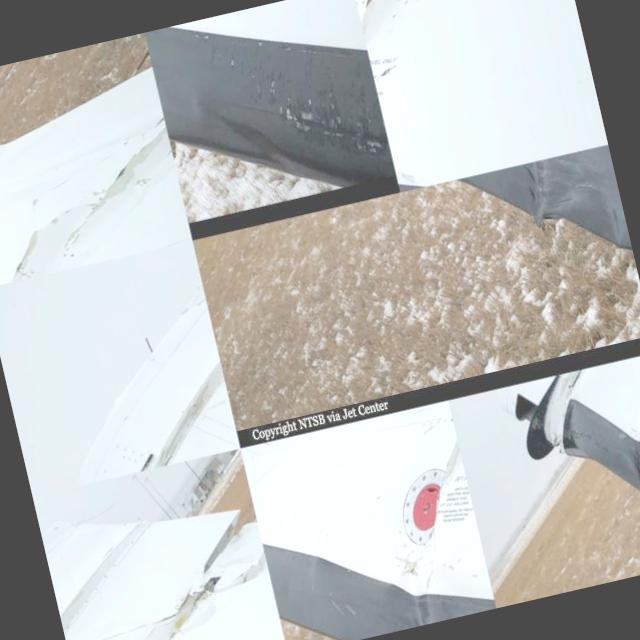crack: (137, 508, 275, 640), (46, 127, 188, 249), (2, 235, 42, 279), (353, 0, 392, 35)
